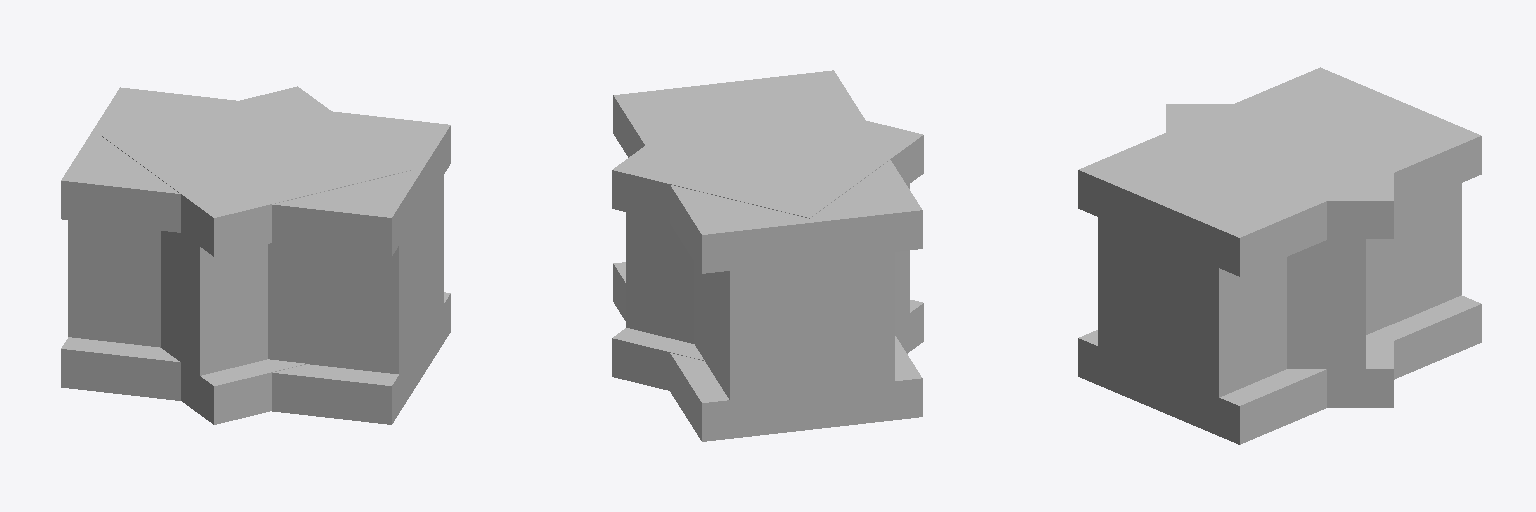
File: cross_d1_xo.obj
3 views of the same model, side by side, from view 1: azimuth 30°, elevation 25°; view 2: azimuth 150°, elevation 25°; view 3: azimuth 270°, elevation 25° (orthographic).
Visible parts, largest first — view 1: real_middle, diag; view 2: real_middle, diag; view 3: real_middle, diag.
Boxes of the visible parts, x1=… form: real_middle: x1=61, y1=87, x2=450, y2=424; diag: x1=101, y1=86, x2=410, y2=424; real_middle: x1=613, y1=70, x2=922, y2=441; diag: x1=612, y1=86, x2=923, y2=390; real_middle: x1=1078, y1=67, x2=1481, y2=444; diag: x1=1166, y1=104, x2=1393, y2=407.
Size of the model in its own units: 1.77 by 1 by 1.77.